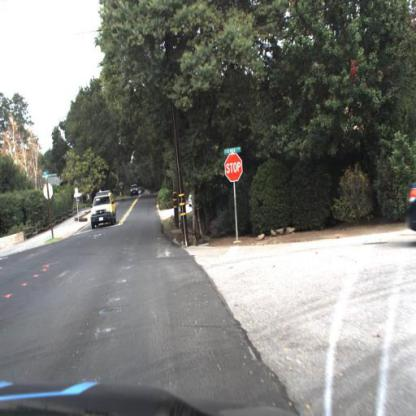car: (85, 188, 120, 228), (129, 186, 140, 200)
